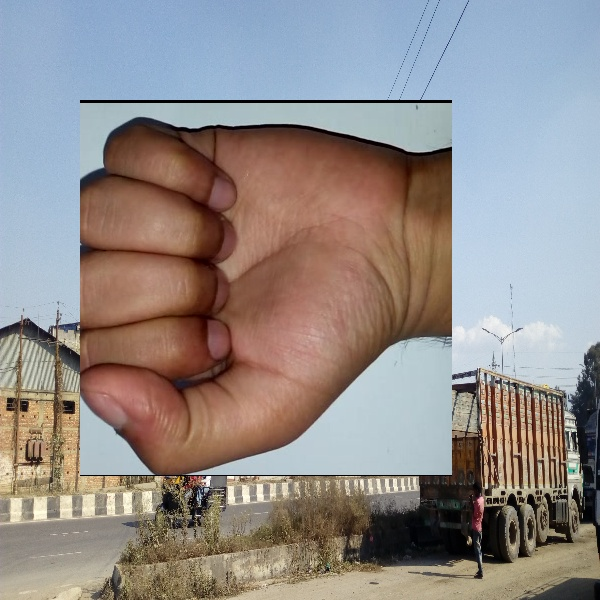A: (80, 100, 452, 476)
